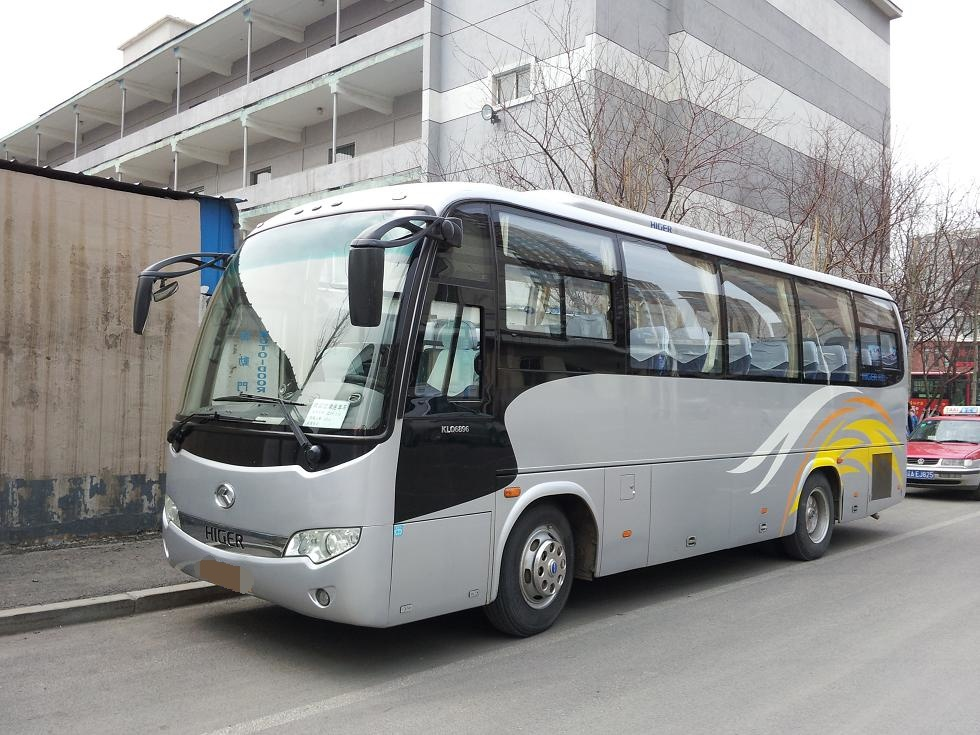bus: (140, 189, 911, 635)
